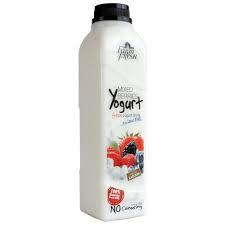bottle: (78, 3, 149, 222)
